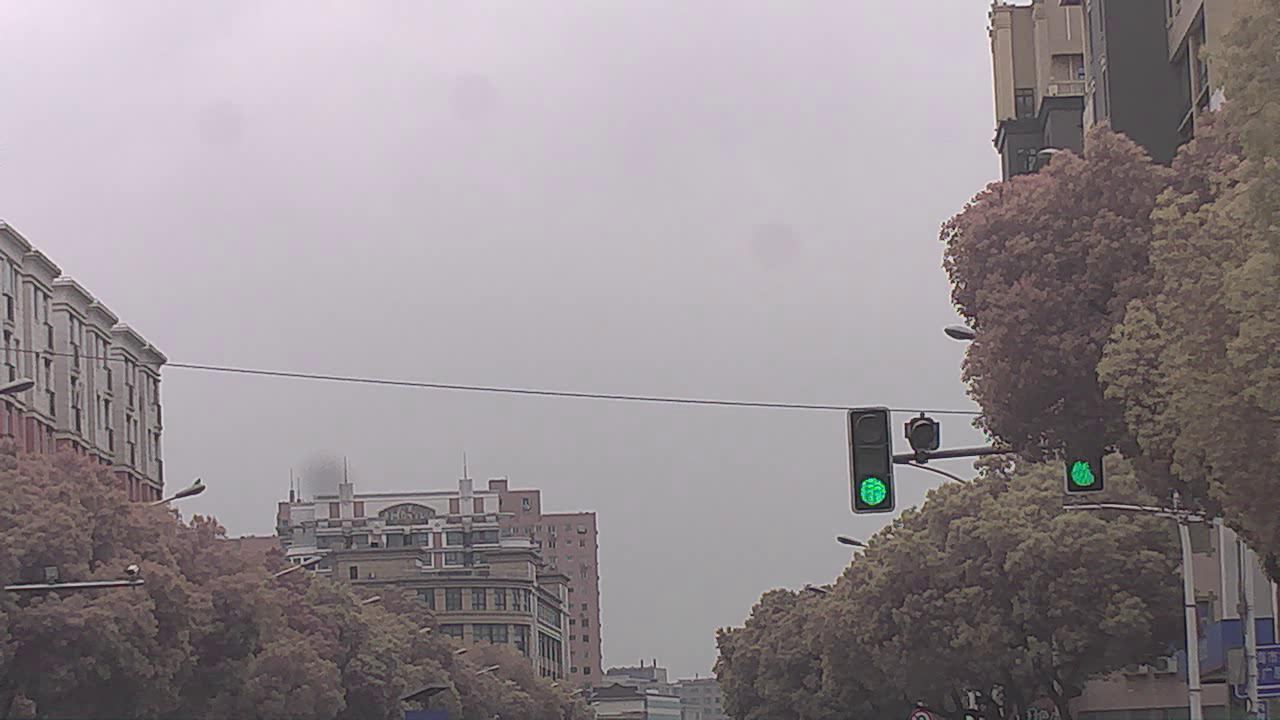traffic_light: (845, 407, 899, 508)
